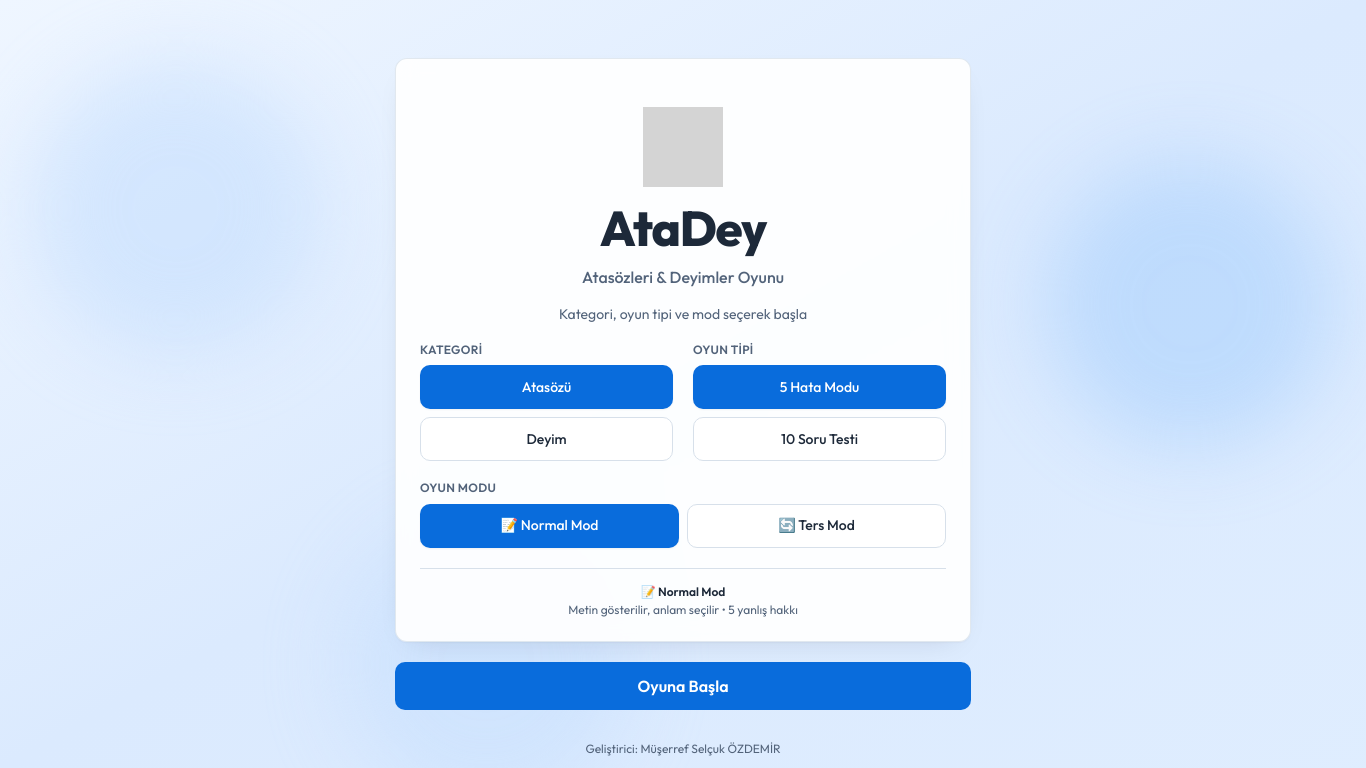
Scenario: App Integration Tests › Game Flow › should show score in header
Click the button "Oyuna Başla": {"x": 683, "y": 686} [395,662,971,710]
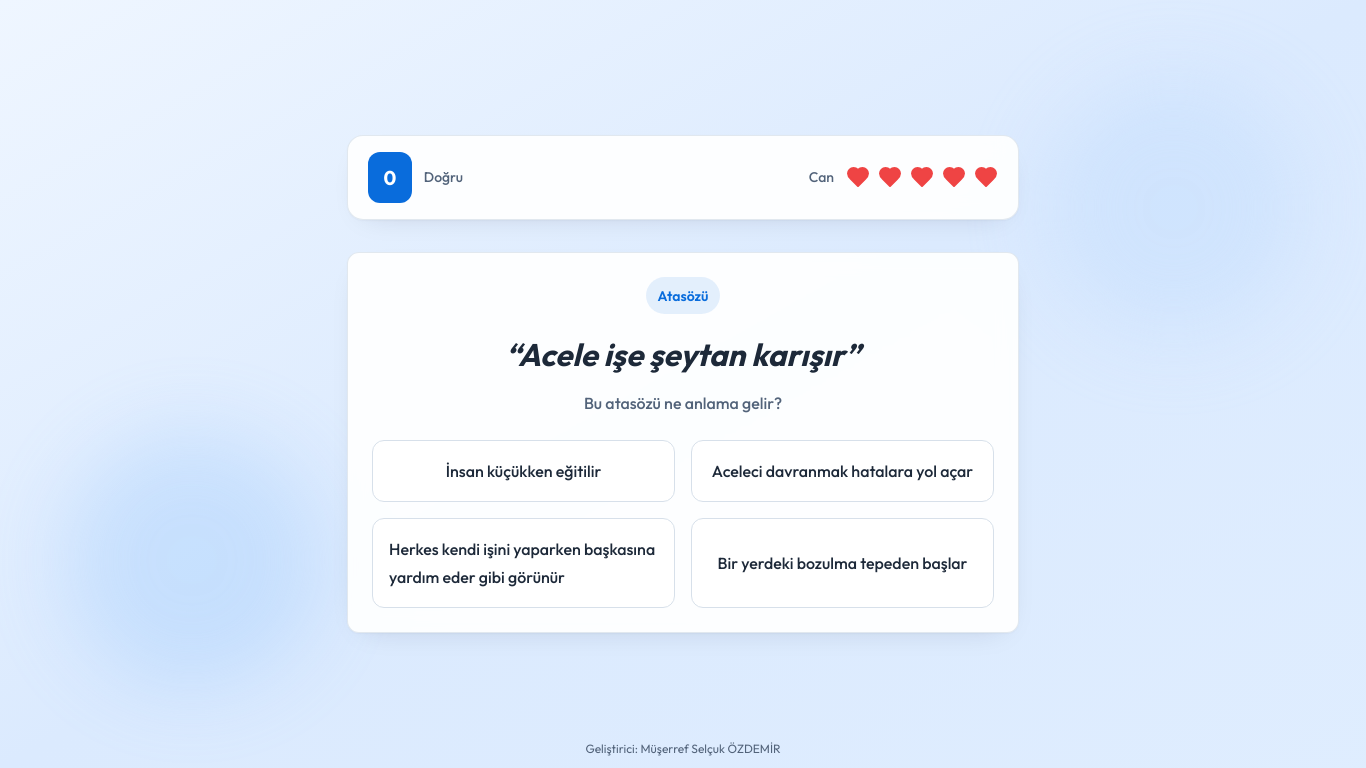
Check: the text "Doğru" is shown, box [424,169,463,186]
